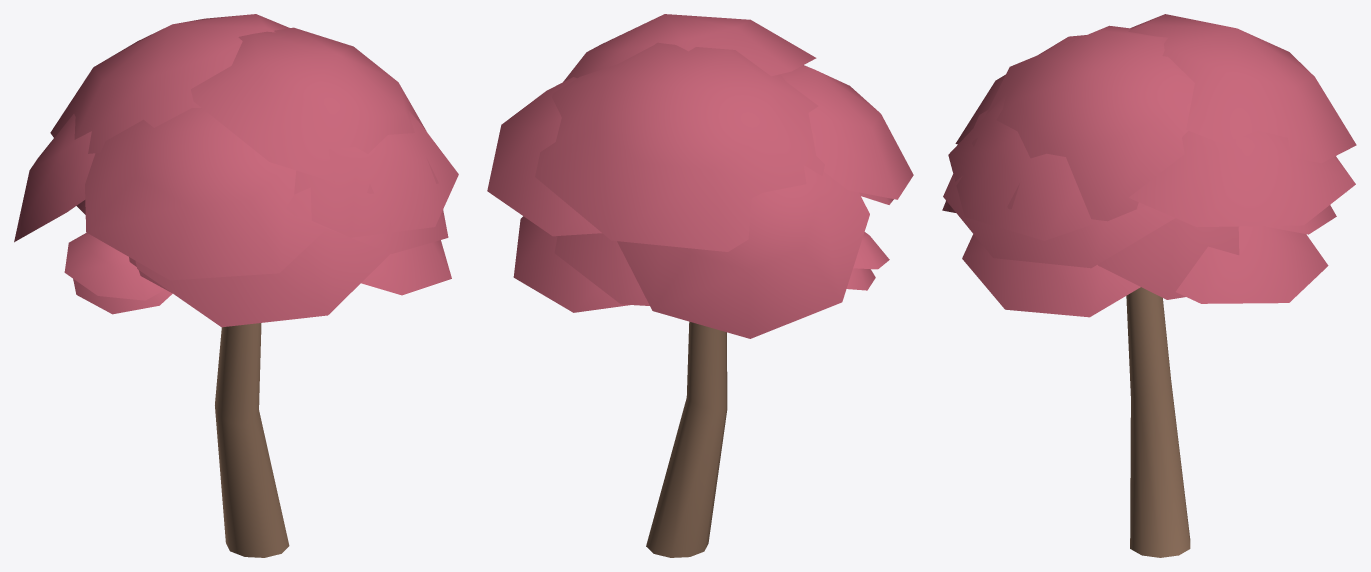
The model's file is Tree_1.glb.
3 views of the same model, side by side, from view 1: azimuth 30°, elevation 25°; view 2: azimuth 150°, elevation 25°; view 3: azimuth 270°, elevation 25° (orthographic).
Parts seen in each view (by area): view 1: Tree_1; view 2: Tree_1; view 3: Tree_1.
Part boxes in pixels (<box>): Tree_1: <box>14,14,458,557</box>; Tree_1: <box>487,14,913,557</box>; Tree_1: <box>942,14,1356,557</box>.
Size of the model in its own units: 4.14 by 5.54 by 4.13.
